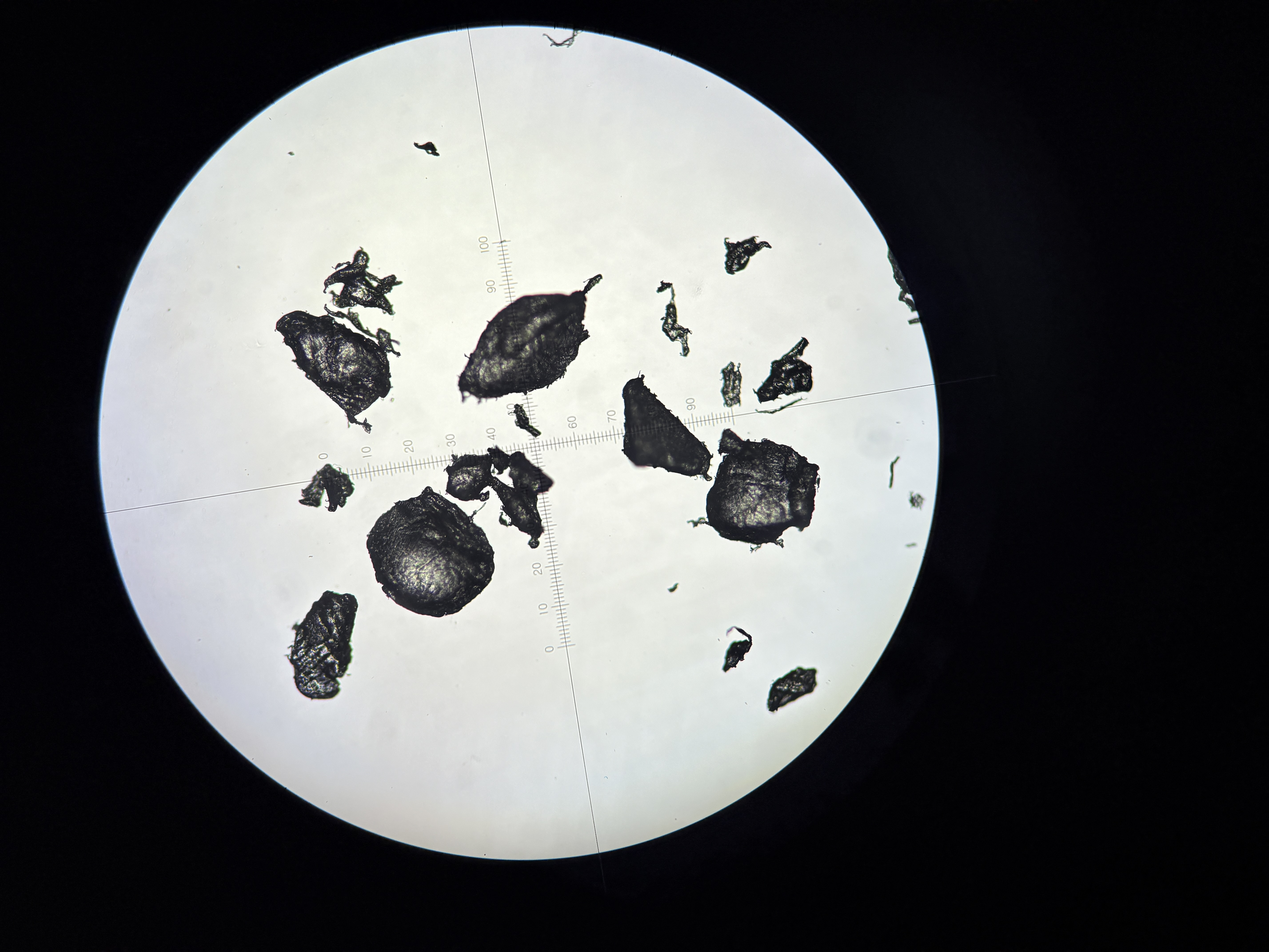microplastic: (365, 485, 496, 618), (686, 437, 822, 555), (273, 309, 395, 435), (457, 289, 592, 402), (620, 369, 714, 483), (283, 589, 360, 702), (328, 246, 397, 316), (490, 476, 546, 550), (751, 335, 810, 405), (323, 302, 401, 346), (656, 279, 694, 359), (443, 452, 494, 503), (766, 666, 820, 714), (507, 450, 555, 494), (722, 235, 773, 276), (315, 464, 356, 513), (331, 261, 404, 286), (769, 358, 815, 397), (322, 261, 370, 294), (297, 463, 332, 508), (721, 625, 753, 674), (886, 248, 915, 295), (717, 427, 760, 458), (507, 403, 543, 439), (718, 361, 743, 410), (753, 395, 809, 415), (376, 327, 402, 358), (541, 29, 582, 48), (486, 444, 511, 475), (412, 140, 442, 158), (581, 272, 603, 296), (888, 454, 901, 492), (376, 273, 398, 295), (898, 290, 918, 313), (908, 489, 927, 511), (474, 490, 491, 502), (498, 511, 509, 528), (667, 582, 681, 593), (907, 316, 922, 326), (905, 542, 918, 549), (285, 150, 296, 157), (390, 397, 395, 402)
